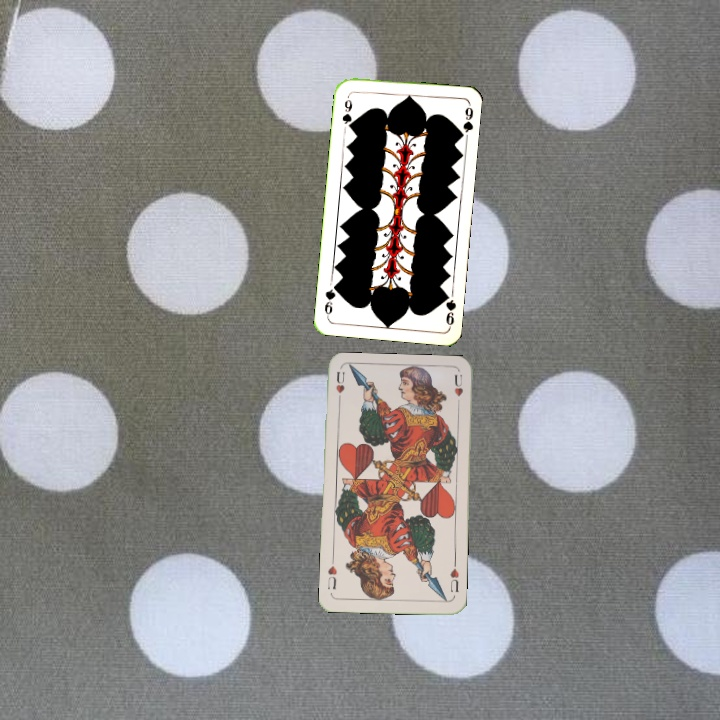G9: (440, 288, 459, 330), (338, 91, 354, 132)
HU: (332, 367, 347, 407), (446, 565, 461, 595)
